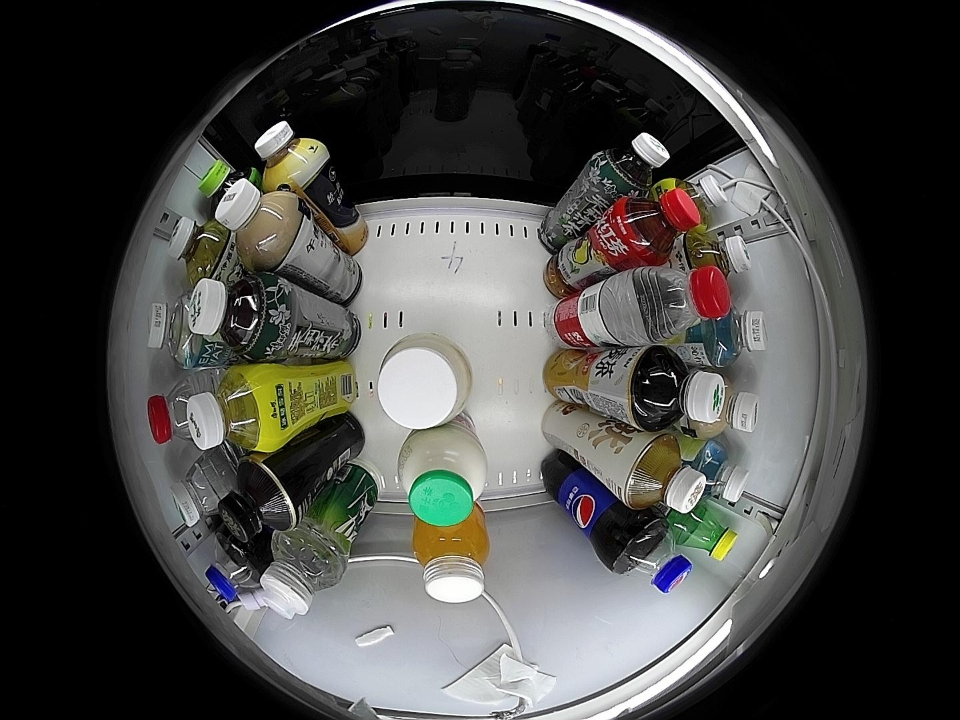asamu: (254, 121, 325, 188)
baicha: (167, 217, 232, 282), (686, 224, 752, 280)
baishikele-2: (611, 518, 692, 594), (205, 534, 264, 602)
binghongcha: (617, 184, 701, 262)
bingtangxueli: (187, 365, 280, 454), (670, 173, 726, 229)
damaicha: (630, 346, 726, 431)
jianjiao: (258, 530, 344, 620)
liziyuan: (398, 427, 487, 528)
moliqingcha: (186, 273, 286, 361), (596, 132, 671, 197)
nongfushanquan: (638, 266, 731, 342), (147, 375, 203, 446)
qinningshui: (149, 295, 210, 368), (702, 305, 768, 367), (690, 440, 750, 505)
rancha-1: (216, 458, 300, 544)
rancha-2: (623, 433, 707, 515)
weic: (412, 513, 490, 604)
wuhounaicha: (215, 179, 301, 269), (693, 374, 761, 437)
xuebi-b: (675, 504, 738, 563)
yibao: (168, 455, 232, 527)
yitengyuan: (197, 160, 257, 213)
yousuanru: (374, 331, 469, 428)
